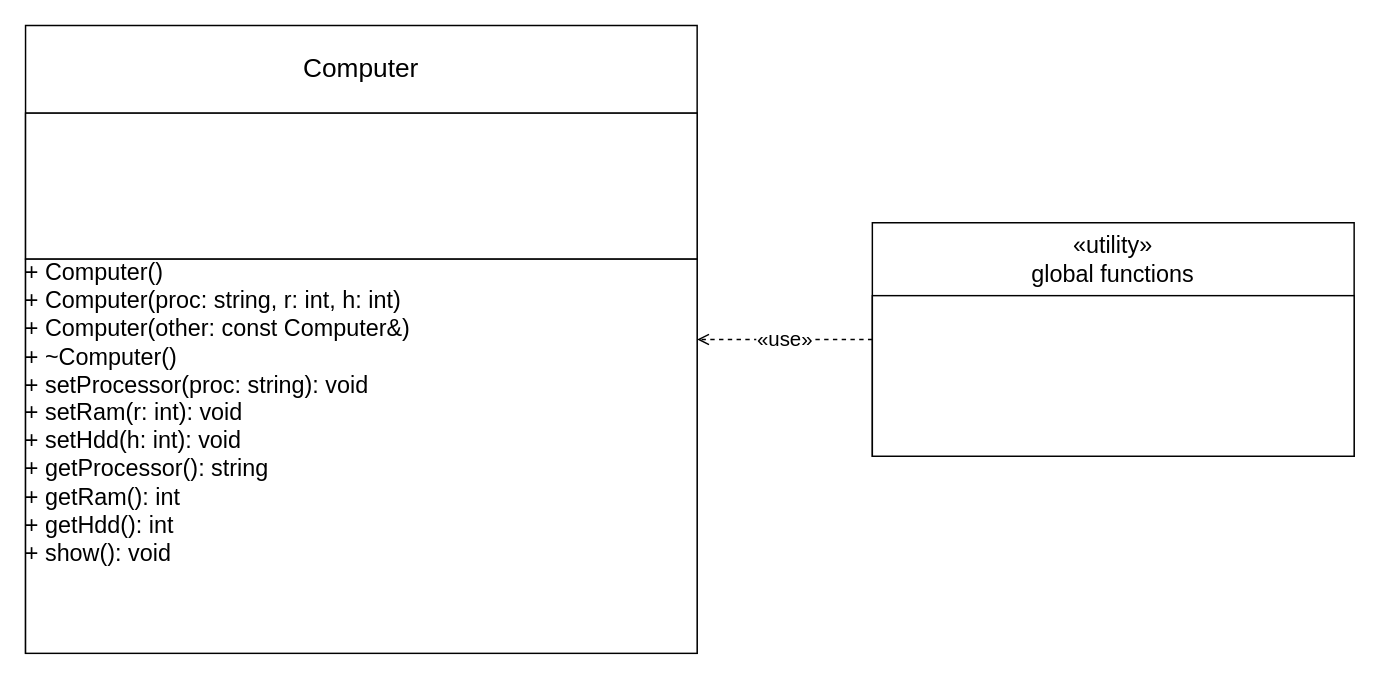
Some shapes in this 1380 by 679 pixel diagram are drawn without their labels. The shapes that lost their labels are listed below. From the top down, each one's centre as x and y in pixels, then its label:
the point at 360,185: - processor: string - ram: int - hdd: int
the point at 1112,375: + createPC(): Computer + showPC(c: Computer): void
